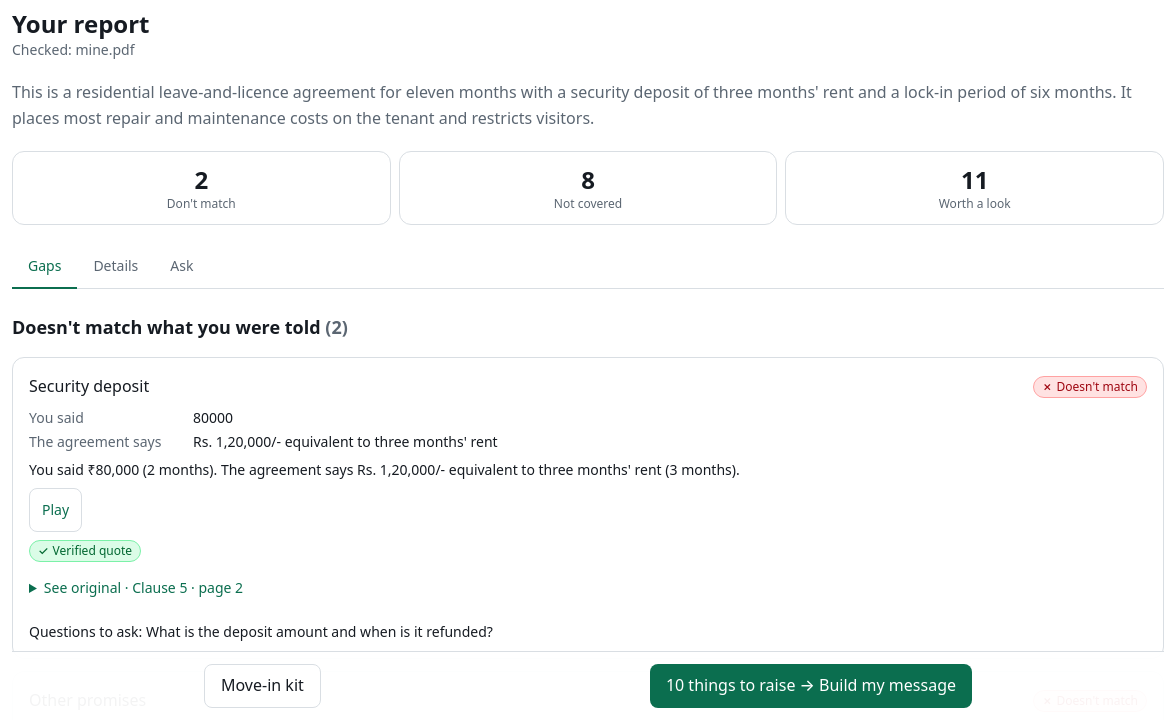
Ask (live) › explains that asking needs a key when there is none
Click the tab "Ask" at coordinates (182, 267), box [154,245,209,289]
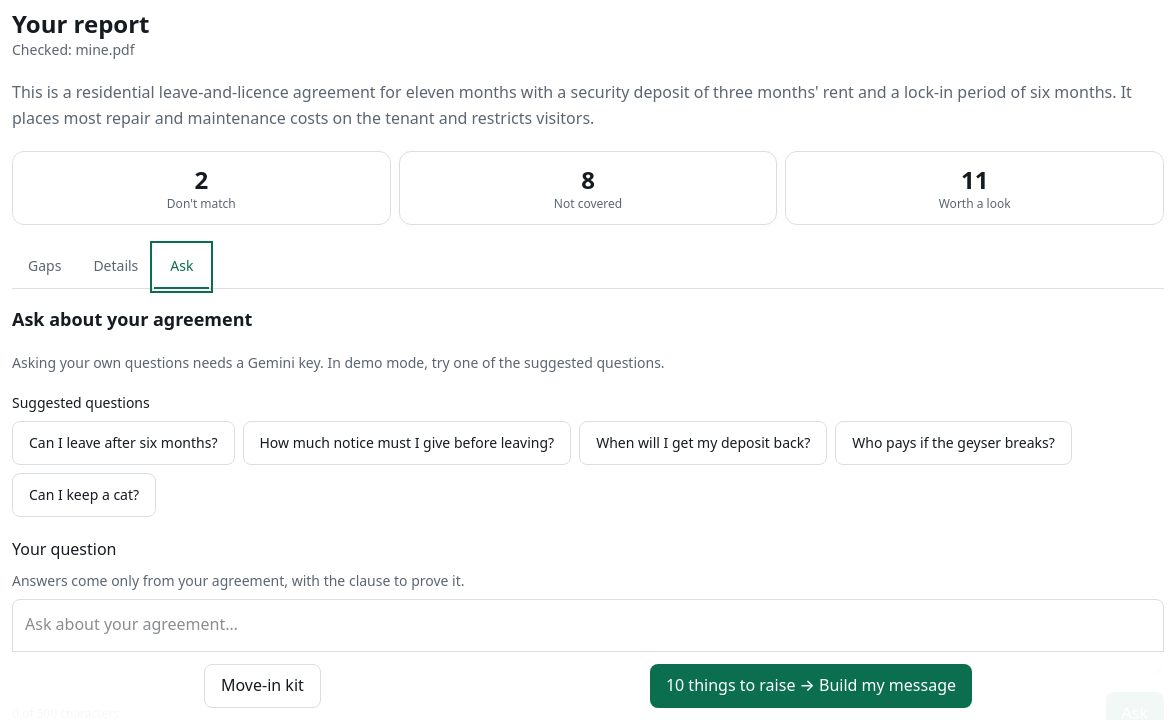
Check: the text "Asking your own questions needs a Gemini key. In demo mode, try one of the suggested questions." is shown, box [12,353,665,372]
